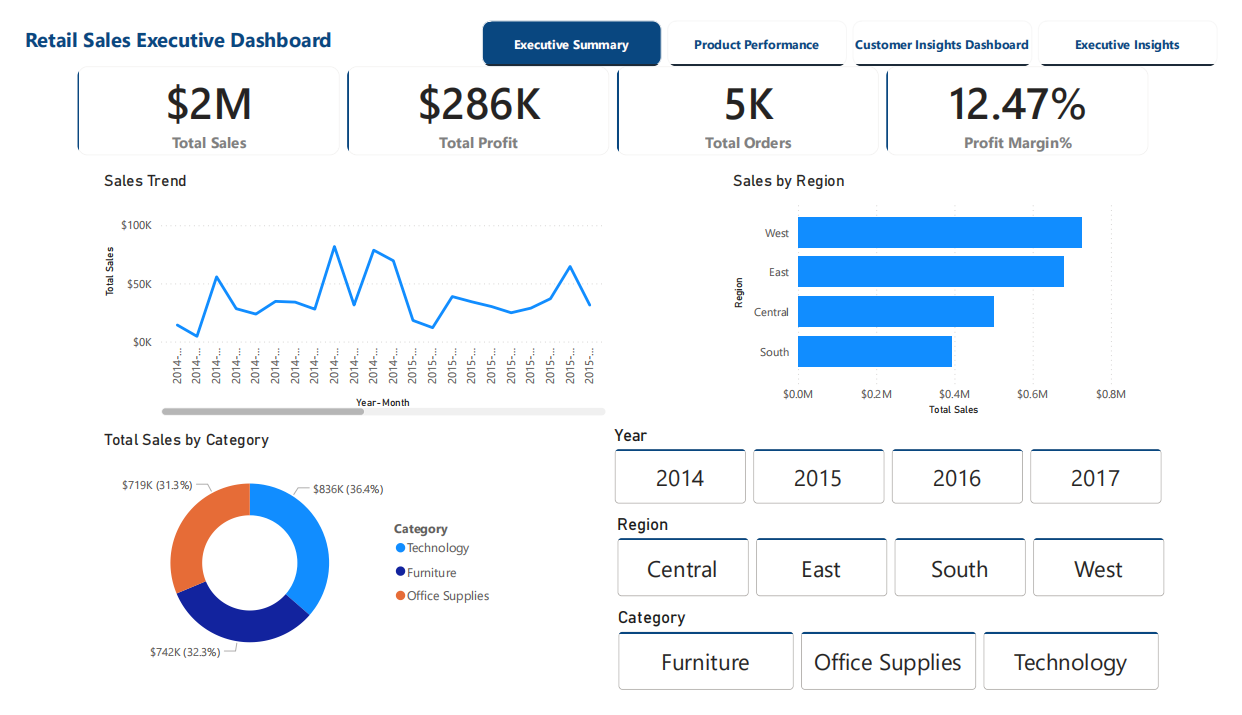

Layout of this report page (visuals, bound fields, positions):
{"tool":"powerbi","page":{"name":"Executive Summary","canvas":[1280,720],"ordinal":0},"visuals":[{"type":"cardVisual","fields":{"Data":["Orders.Total Sales","Orders.Total Profit","Orders.Total Orders","Orders.Profit Margin%"]},"box":[43.9,31.6,1178.7,129],"z":0},{"type":"lineChart","title":"Sales Trend","fields":{"Y":["Orders.Total Sales"],"Category":["Date Table.Year-Month"]},"box":[85.1,160.5,544.8,266.2],"z":1000},{"type":"clusteredBarChart","title":"Sales by Region","fields":{"Category":["Regions.Region"],"Y":["Orders.Total Sales"]},"box":[757.5,160.5,429.5,266.2],"z":2000},{"type":"donutChart","fields":{"Category":["Products.Category"],"Y":["Orders.Total Sales"]},"box":[85,437,430,266],"z":3000},{"type":"advancedSlicerVisual","fields":{"Values":["Date Table.Year"]},"box":[629.8,432.2,598.3,89.2],"z":4000},{"type":"advancedSlicerVisual","fields":{"Values":["Regions.Region"]},"box":[632.6,526.9,595.5,93.3],"z":5000},{"type":"advancedSlicerVisual","fields":{"Values":["Products.Category"]},"box":[634,626.7,588.7,93.3],"z":6000},{"type":"textbox","box":[0,0,524.2,41.2],"z":9000},{"type":"pageNavigator","box":[492.6,0,787.7,49.4],"z":9001}]}

Visuals, with their boxes in screenshot pixels (x1, y1, x2, y2), scaled from the page's 1280x720 canvas onto the 1242x715 screenshot:
cardVisual - Orders.Total Sales x Orders.Total Profit: [left=43, top=31, right=1186, bottom=159]
"Sales Trend" lineChart: [left=83, top=159, right=611, bottom=424]
"Sales by Region" clusteredBarChart: [left=735, top=159, right=1152, bottom=424]
donutChart - Products.Category x Orders.Total Sales: [left=82, top=434, right=500, bottom=698]
advancedSlicerVisual - Date Table.Year: [left=611, top=429, right=1192, bottom=518]
advancedSlicerVisual - Regions.Region: [left=614, top=523, right=1192, bottom=616]
advancedSlicerVisual - Products.Category: [left=615, top=622, right=1186, bottom=714]
textbox: [left=0, top=0, right=509, bottom=41]
pageNavigator: [left=478, top=0, right=1241, bottom=49]
